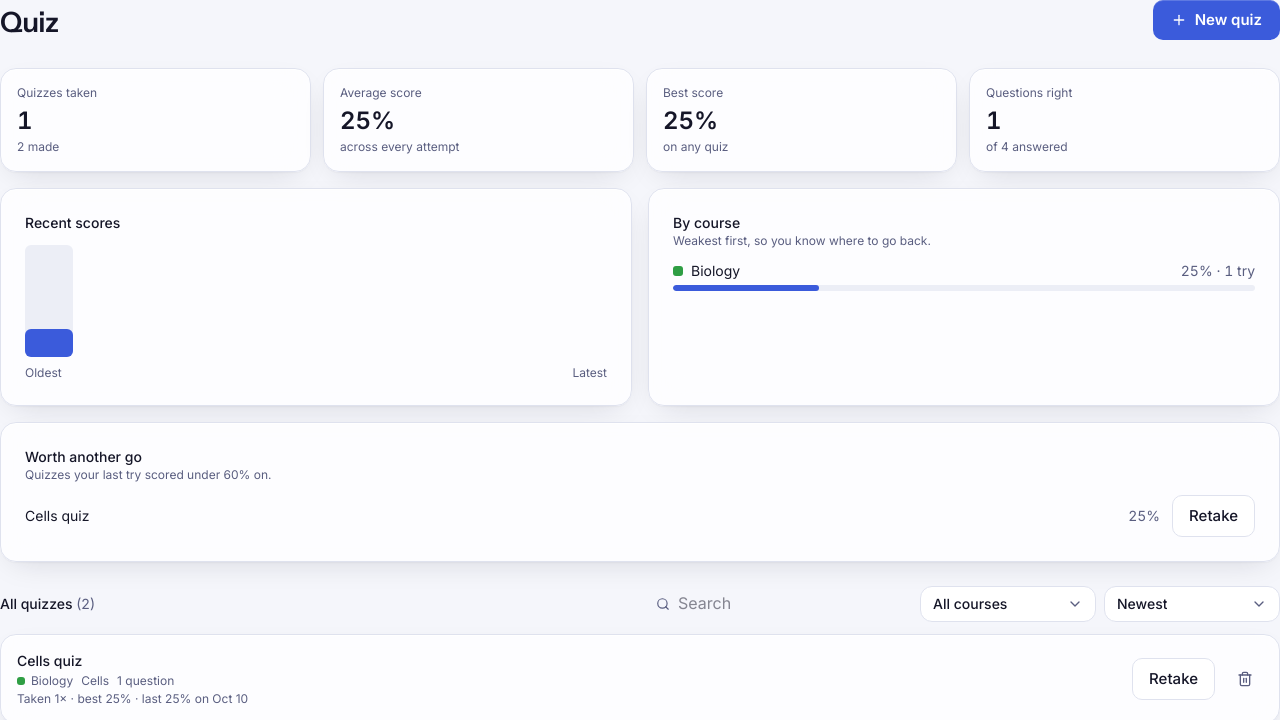
Scenario: the Quiz page › says so, and keeps the quiz, when deleting fails
The image size is (1280, 720).
Click the button named "Delete Cells quiz" at (1245, 679), box [1227,661,1263,697]
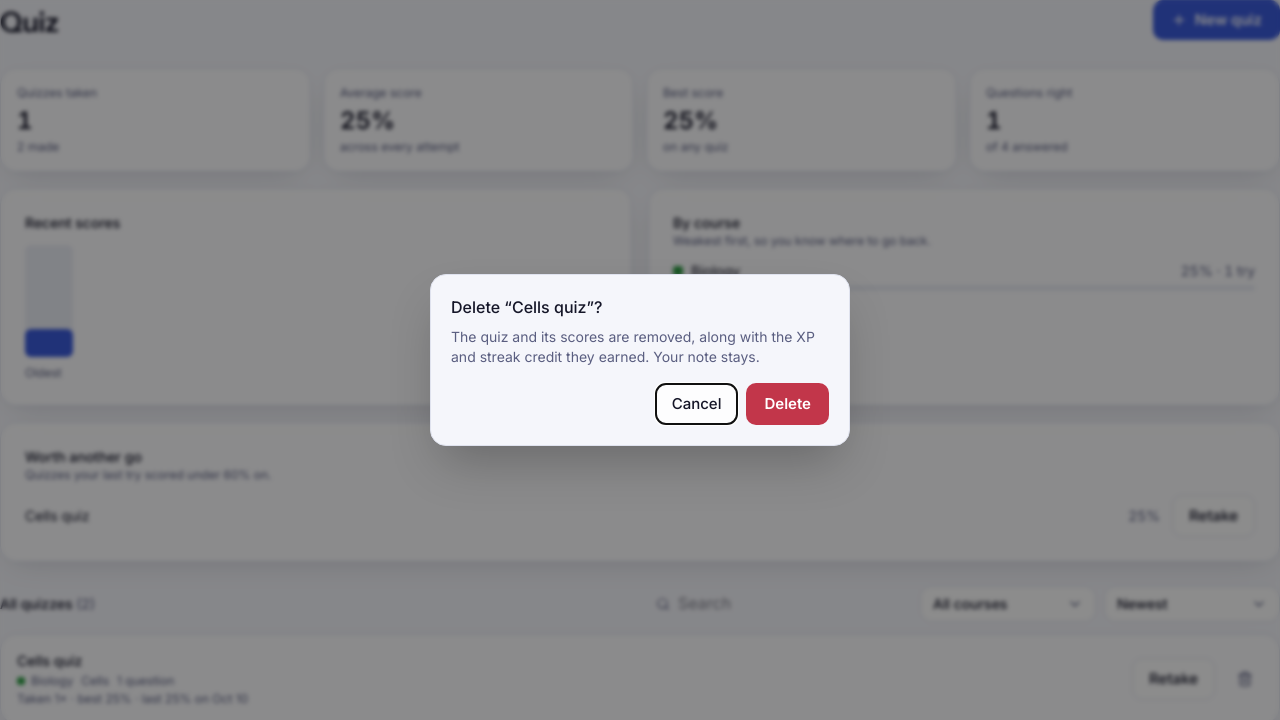
Click the button "Delete" at (788, 404), box [746,383,829,425]
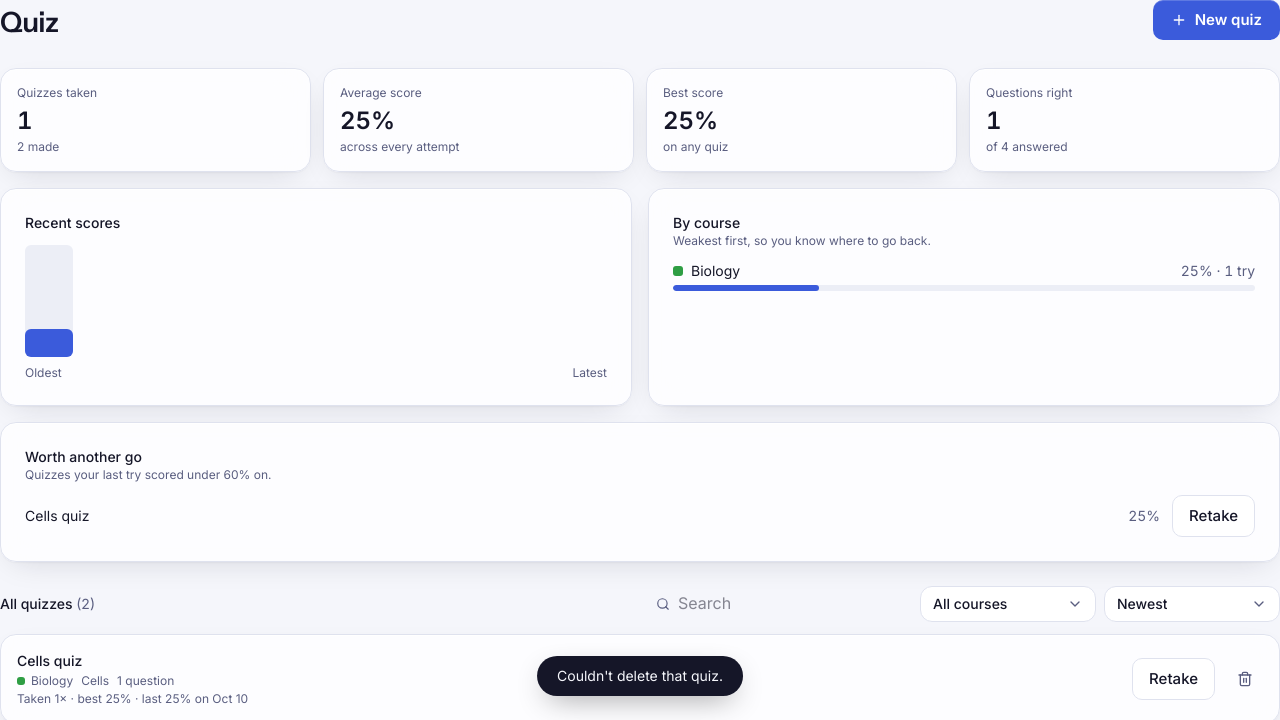
Expected: the text "Cells quiz" below "All quizzes" is shown, [17,652,82,669]
Result: the text "Couldn't delete that quiz." is shown at [537,656,743,696]
